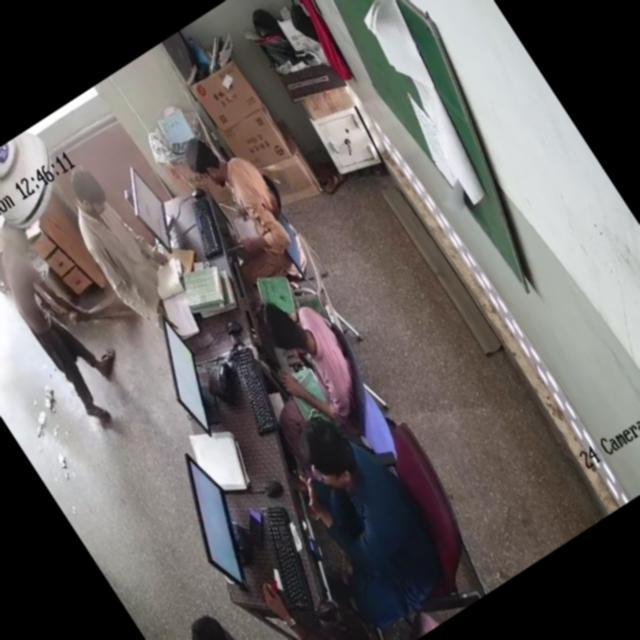person: (266, 416, 437, 599), (46, 161, 194, 345), (0, 218, 129, 419), (178, 119, 298, 265), (262, 292, 372, 423), (179, 588, 317, 640), (292, 582, 397, 640)
